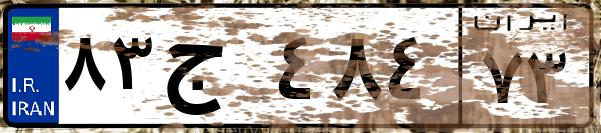3: (525, 38, 570, 115), (110, 28, 158, 98)
4: (270, 28, 330, 110), (385, 28, 445, 110)
7: (475, 38, 525, 113)
8: (330, 28, 385, 110), (57, 26, 110, 100)
ج: (158, 20, 270, 120)
